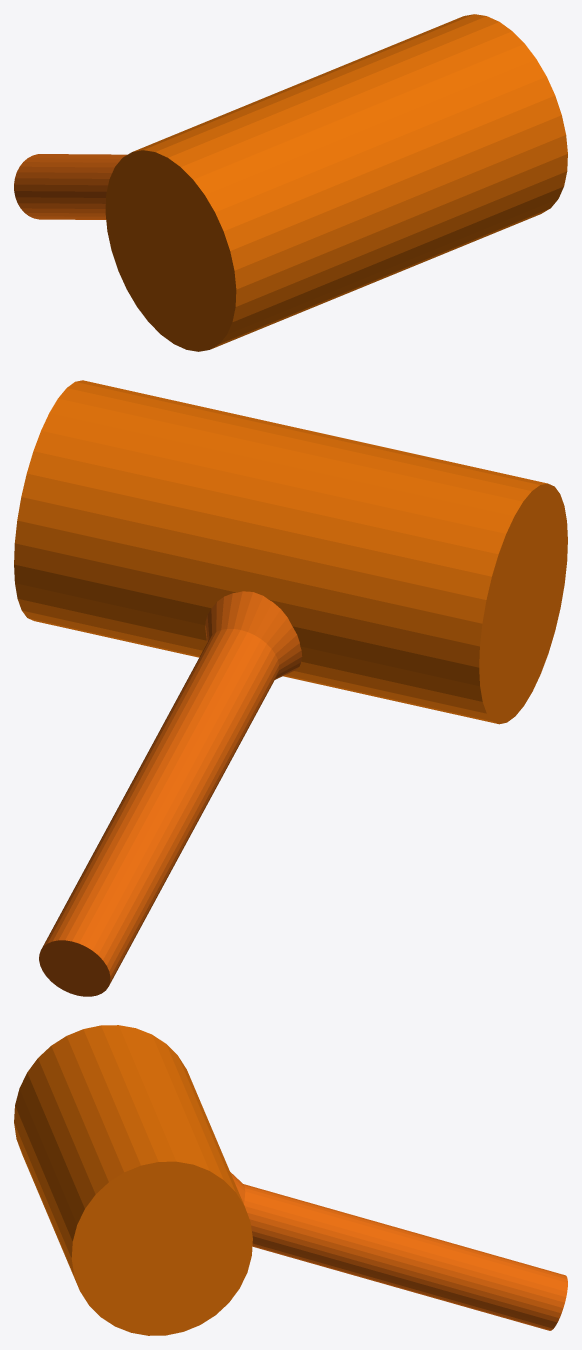
File: sdrc_mallet.dae
The picture shows the model from 3 angles, top to bottom: view 1: azimuth 30°, elevation 25°; view 2: azimuth 150°, elevation 25°; view 3: azimuth 270°, elevation 25°; orthographic projection. The views are drawn at different scales.
Visible parts, largest first — view 1: Cylinder.001, Cylinder; view 2: Cylinder.001, Cylinder; view 3: Cylinder.001, Cylinder.
Boxes of the visible parts, x1,y1,x2,y2 form: Cylinder.001: [105, 14, 567, 351]; Cylinder: [14, 154, 126, 219]; Cylinder.001: [14, 380, 567, 724]; Cylinder: [39, 591, 302, 996]; Cylinder.001: [14, 1025, 252, 1335]; Cylinder: [230, 1172, 567, 1330].
Bounding box in the file's own units: 0.6436 × 0.8873 × 0.4701.
